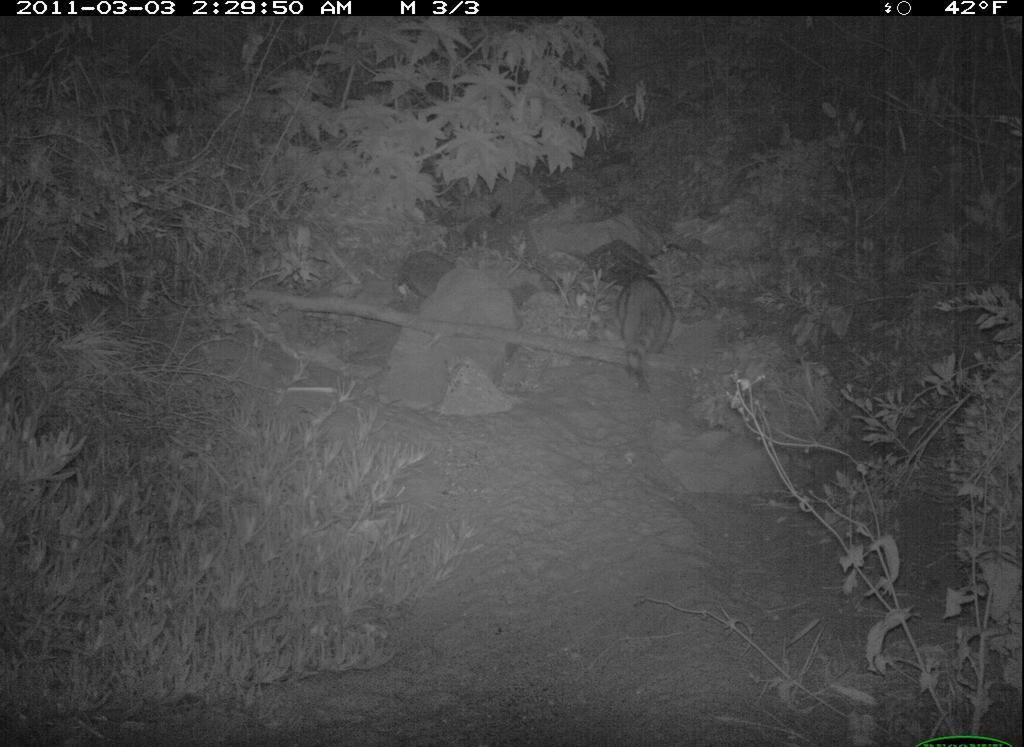raccoon: (602, 230, 697, 400)
